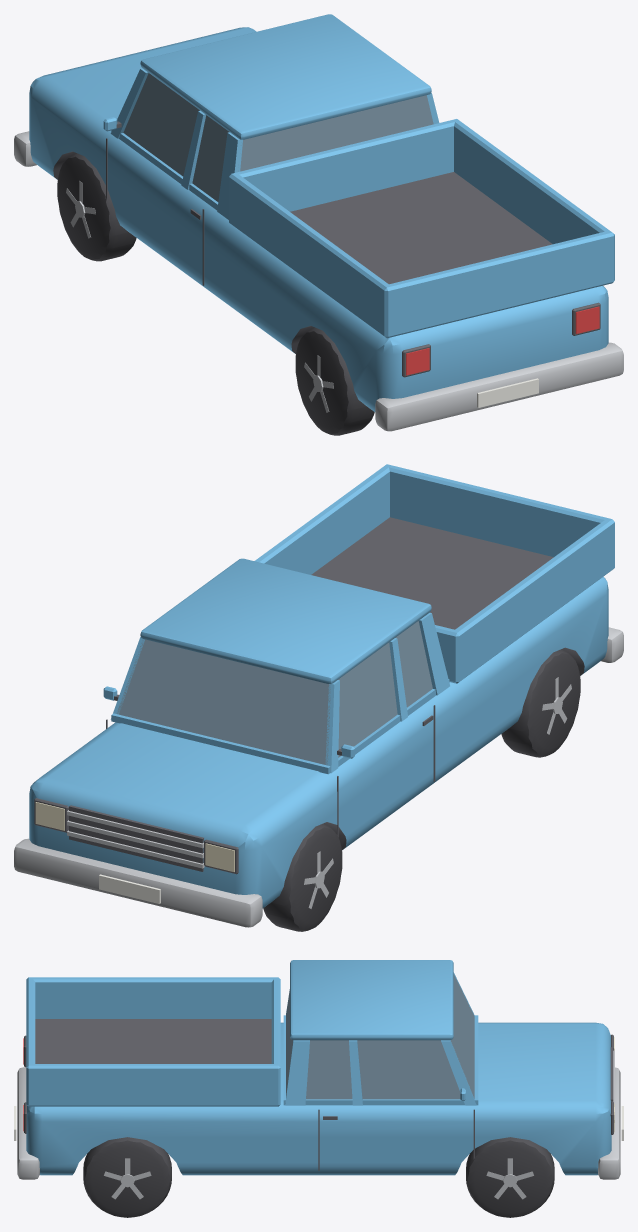
Rendered from car_pickup.glb.
3 views of the same model, one above another, from view 1: azimuth 30°, elevation 25°; view 2: azimuth 150°, elevation 25°; view 3: azimuth 270°, elevation 25° (orthographic). The views are drawn at different scales.
Visible parts, largest first — view 1: body, wheel_rl, wheel_fl; view 2: body, wheel_rl, wheel_fl; view 3: body, wheel_rr, wheel_fr.
Part boxes in pixels (x1=…): body: x1=14, y1=14, x2=623, y2=431; wheel_rl: x1=295, y1=327, x2=374, y2=435; wheel_fl: x1=57, y1=153, x2=136, y2=261; body: x1=14, y1=464, x2=623, y2=927; wheel_rl: x1=501, y1=649, x2=580, y2=757; wheel_fl: x1=263, y1=823, x2=342, y2=931; body: x1=14, y1=960, x2=623, y2=1179; wheel_rr: x1=83, y1=1137, x2=171, y2=1217; wheel_fr: x1=466, y1=1137, x2=554, y2=1217.
Bounding box in the file's own units: 2.06 × 1.74 × 5.42.
